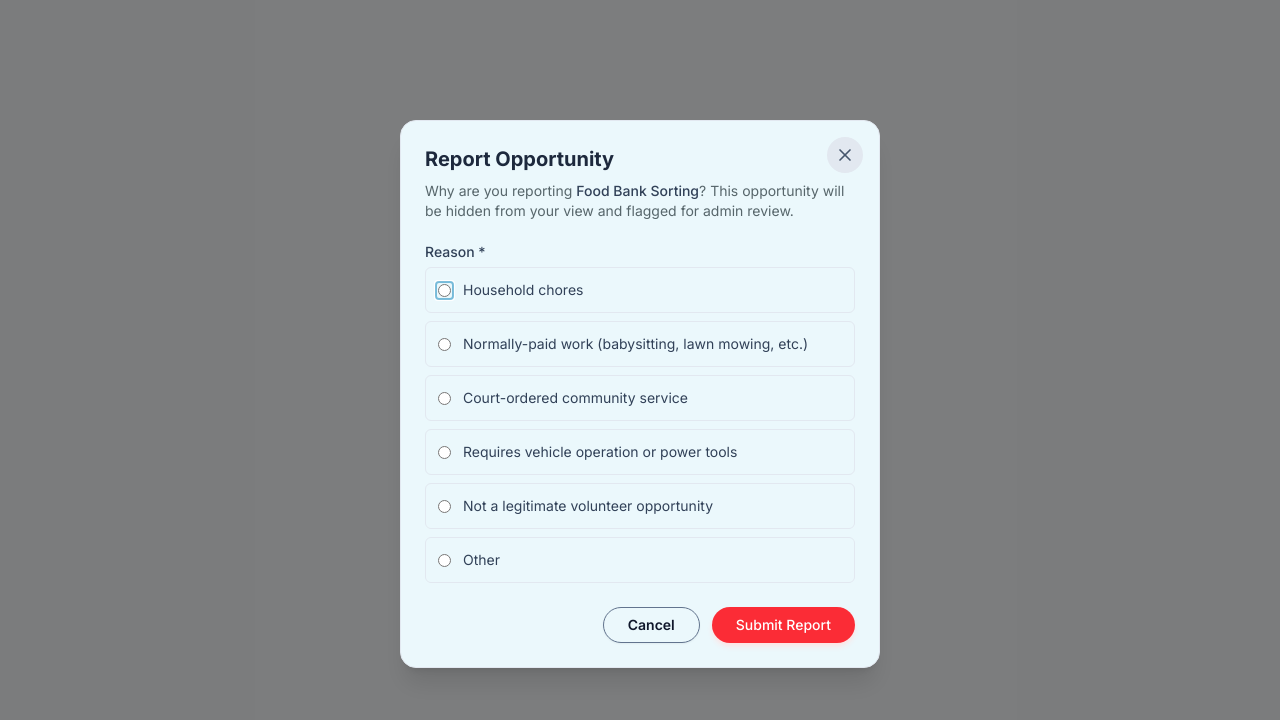
Test case: ReportOpportunityModal › shows the textarea when 'Other' is selected
This screenshot has width=1280, height=720.
Click the text "Other".
click(482, 560)  # box [463, 550, 500, 570]
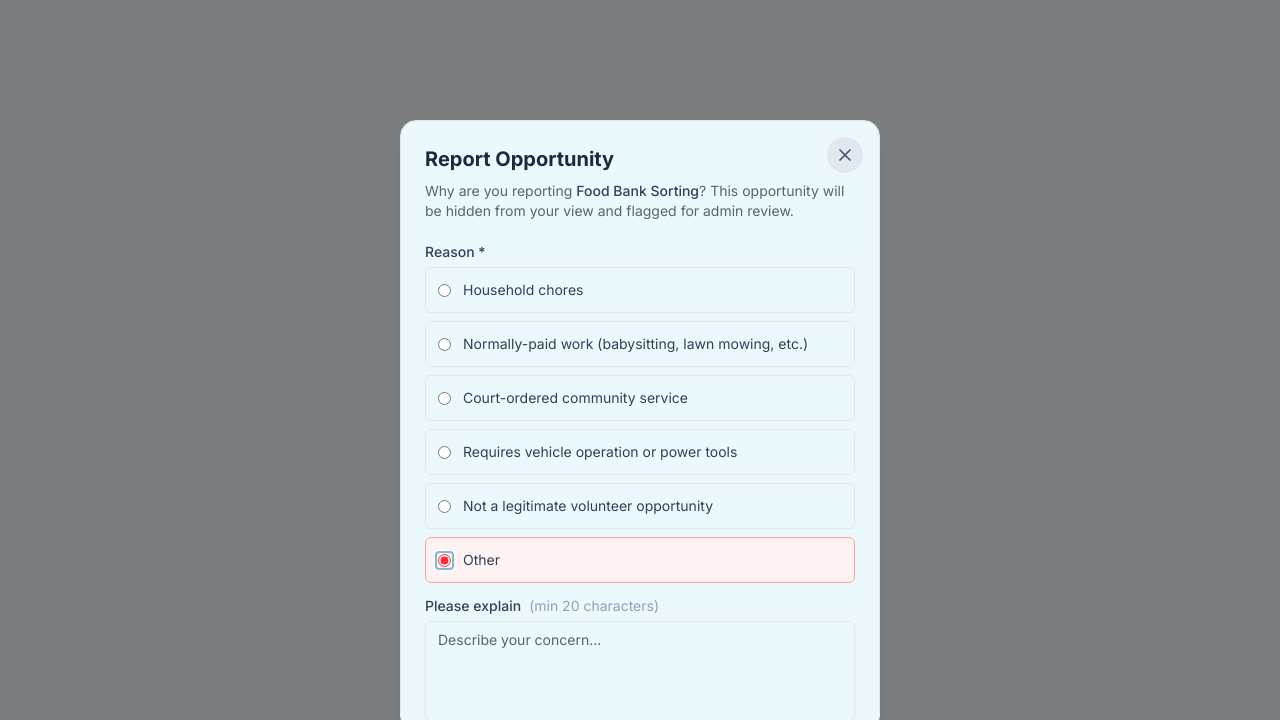
Check: the text box with placeholder "Describe your concern..." is shown, box [425, 621, 855, 719]
